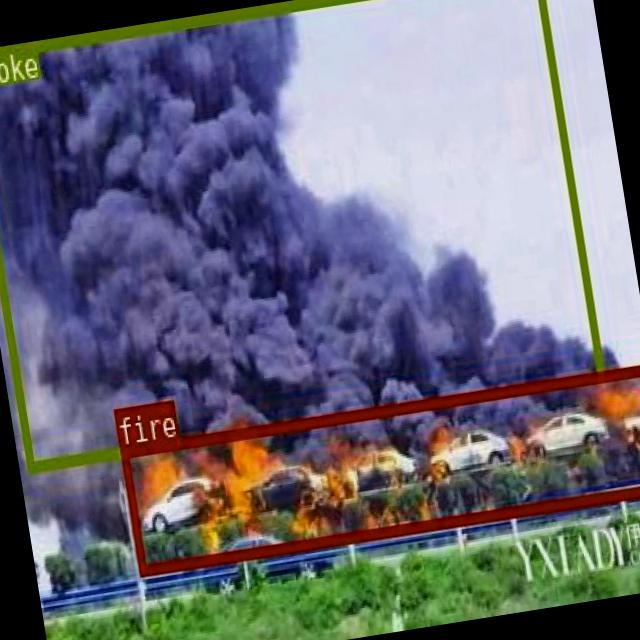fire: (118, 362, 640, 573)
smoke: (0, 0, 603, 469)
